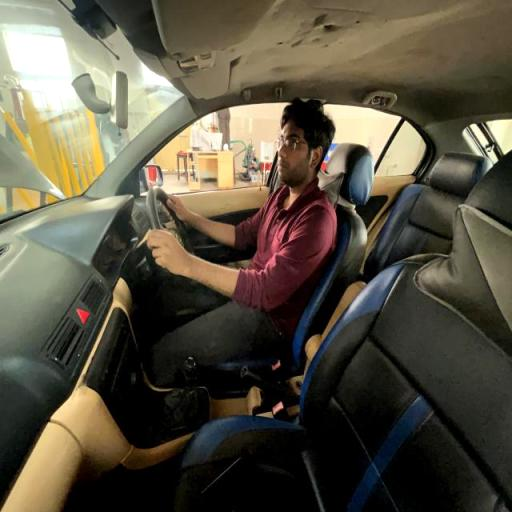Reaching_behind: (142, 96, 336, 340)
